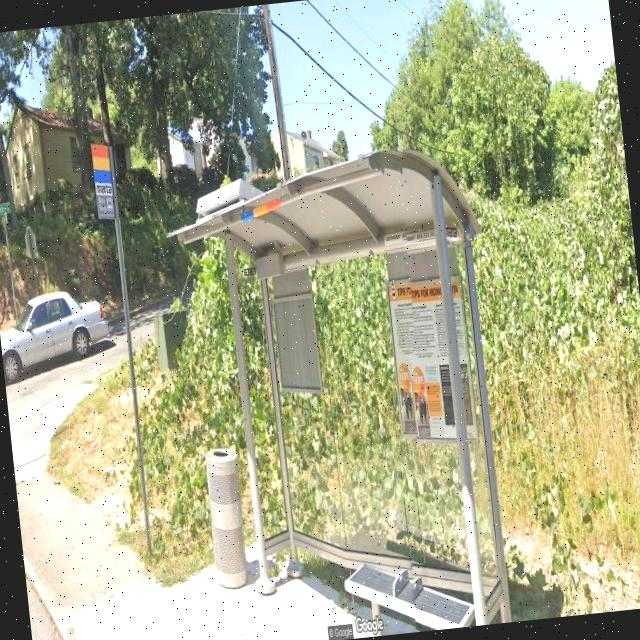seating: (342, 550, 476, 638)
shelter: (172, 150, 517, 640)
trash_can: (202, 446, 251, 592)
